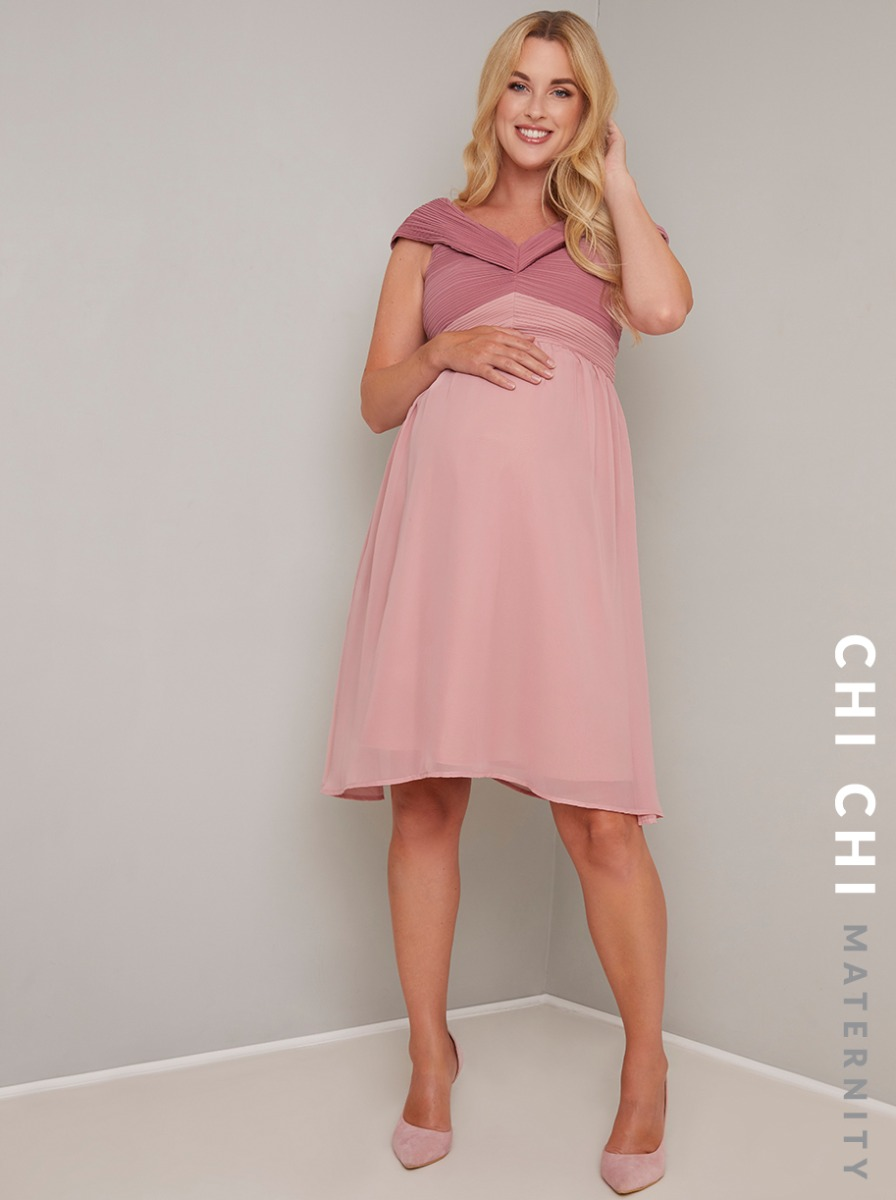C_dress: (305, 189, 669, 821)
